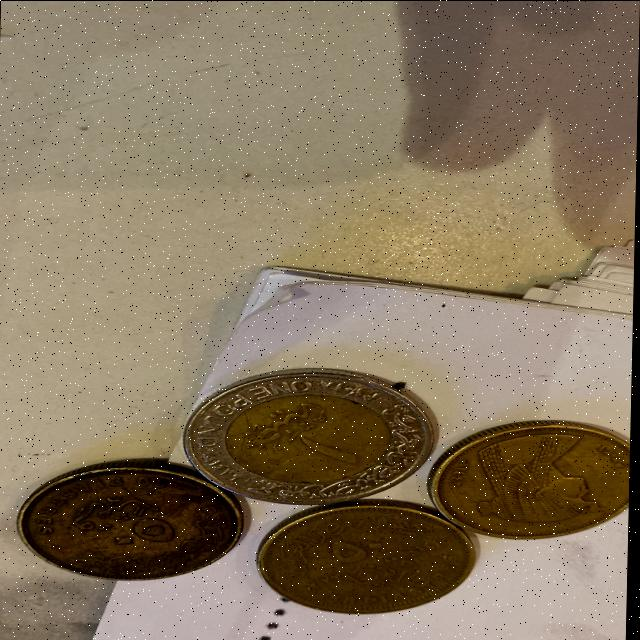Half Pound: (0, 454, 262, 586), (251, 503, 496, 615), (441, 425, 633, 541)
One Pound: (164, 363, 456, 502)
